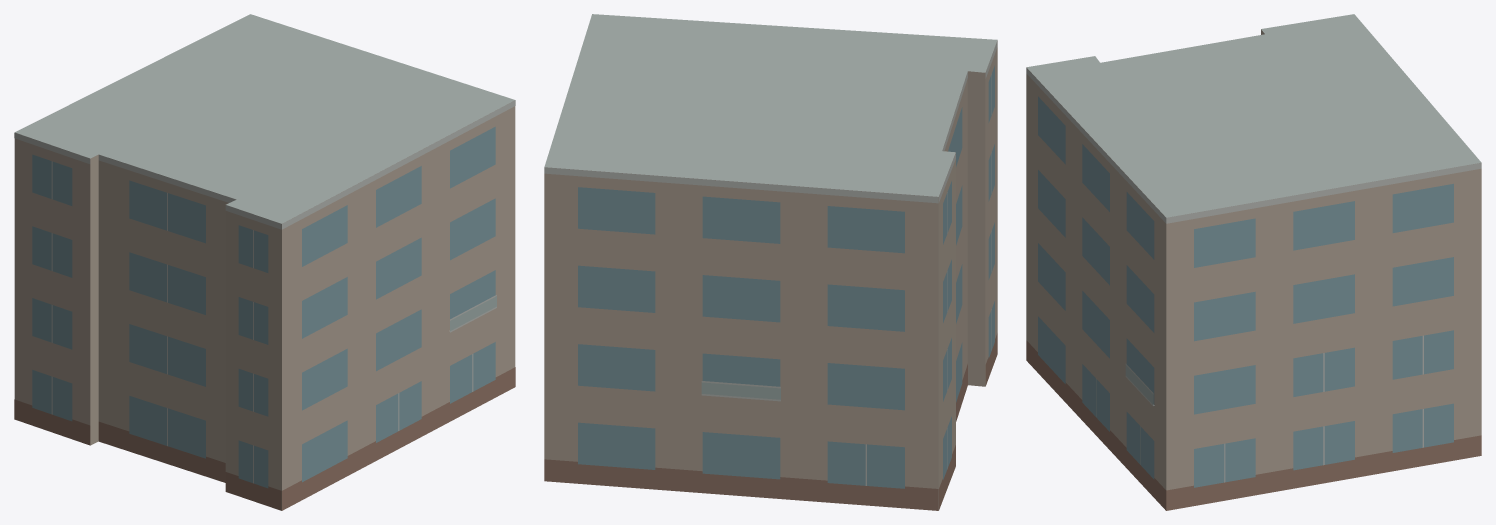
Rendered from survey-upis-32844770.glb.
3 renders of one model, left to right at view 1: azimuth 30°, elevation 25°; view 2: azimuth 150°, elevation 25°; view 3: azimuth 270°, elevation 25°, orthographic. The views are drawn at different scales.
Visible parts, largest first — view 1: survey-upis-32844770.tmp; view 2: survey-upis-32844770.tmp; view 3: survey-upis-32844770.tmp.
Boxes of the visible parts, x1,y1,x2,y2 form: survey-upis-32844770.tmp: (14,14,515,510); survey-upis-32844770.tmp: (544,14,997,510); survey-upis-32844770.tmp: (1026,14,1481,510).
Size of the model in its own units: 17.8 by 11.93 by 16.81.
